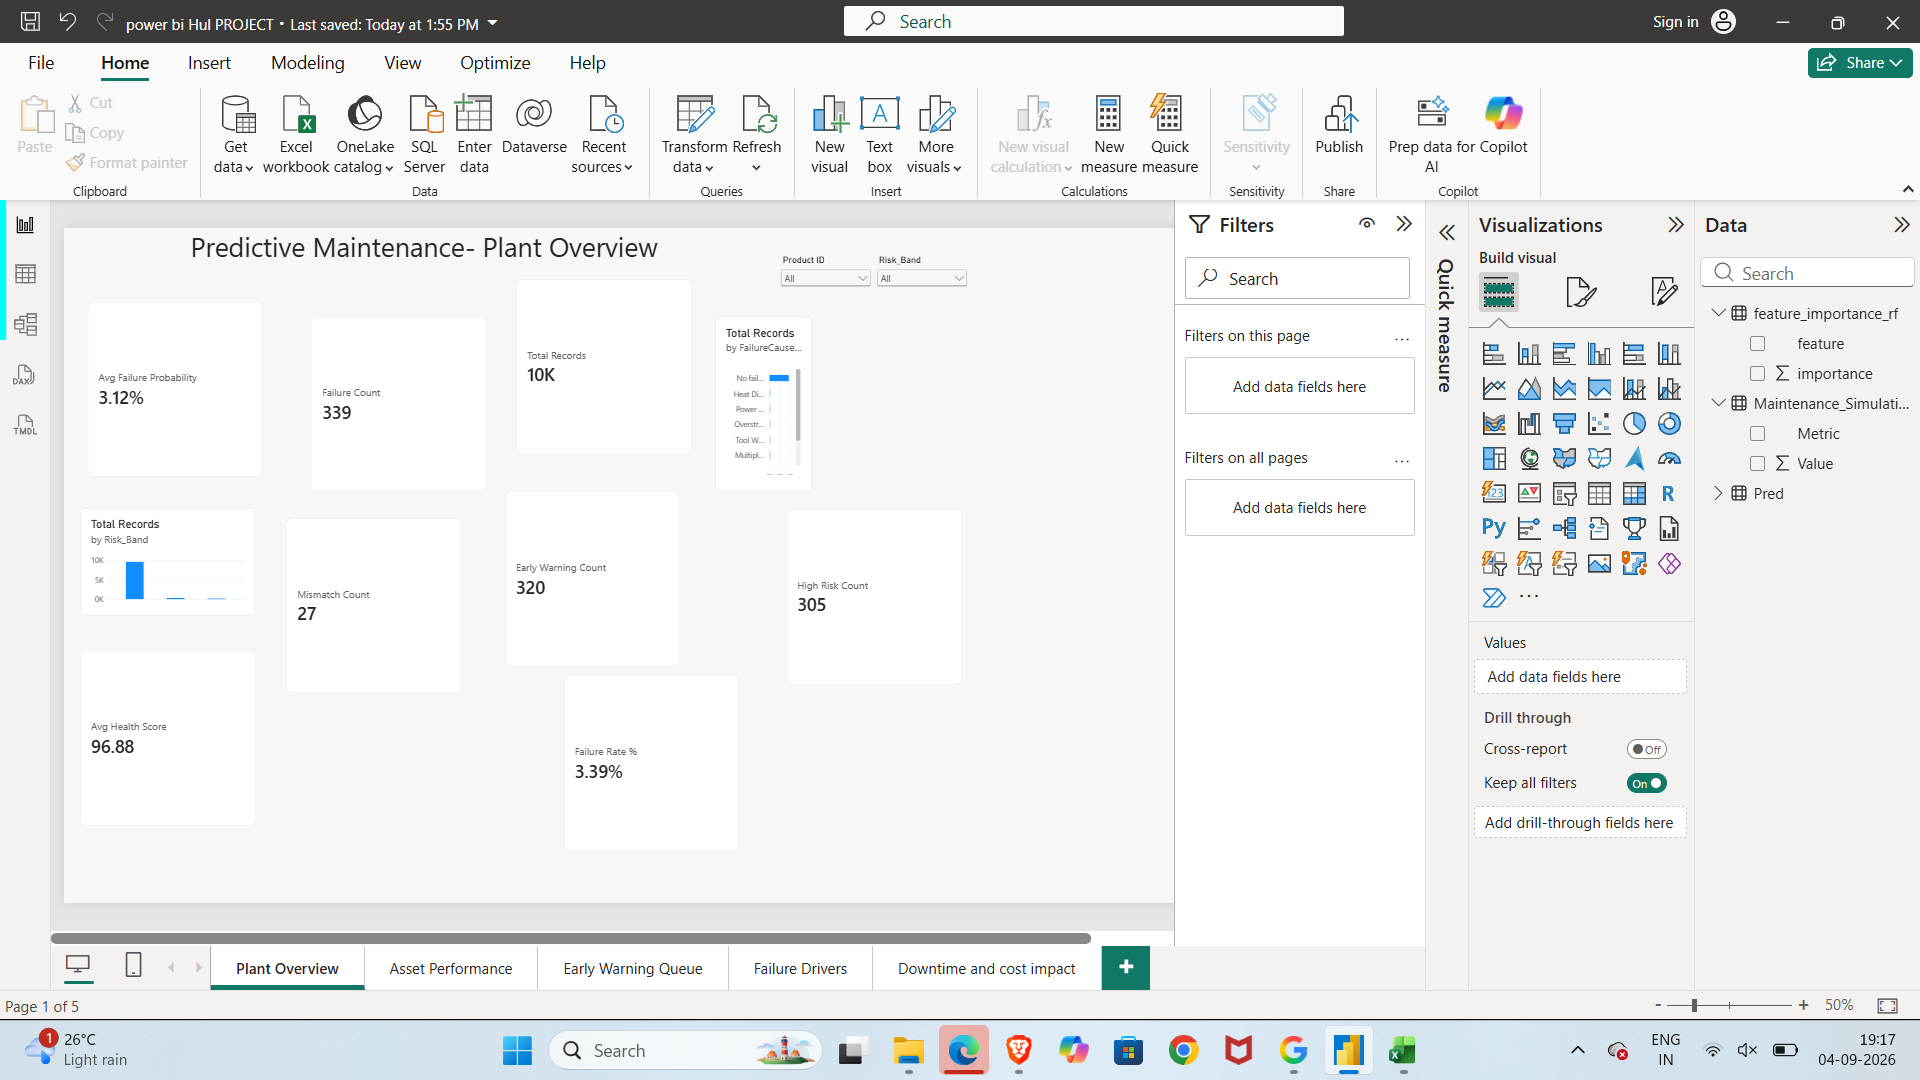

What the dashboard file says about the page in this screenshot:
{"tool":"powerbi","page":{"name":"Plant Overview","canvas":[1920,1080],"ordinal":0},"visuals":[{"type":"textbox","box":[10,0,1132,82],"z":0},{"type":"cardVisual","fields":{"Data":["Pred.Total Records"]},"box":[723.3,81.7,280,280],"z":1000},{"type":"cardVisual","fields":{"Data":["Pred.Avg Failure Probability"]},"box":[38.3,118.3,280,280],"z":2000},{"type":"cardVisual","fields":{"Data":["Pred.Avg Health Score"]},"box":[26.7,676.7,280,280],"z":3000},{"type":"cardVisual","fields":{"Data":["Pred.Failure Rate %"]},"box":[800,716.7,280,280],"z":4000},{"type":"cardVisual","fields":{"Data":["Pred.Failure Count"]},"box":[395,141.7,280,280],"z":5000},{"type":"cardVisual","fields":{"Data":["Pred.High Risk Count"]},"box":[1156,450,280,280],"z":6000},{"type":"cardVisual","fields":{"Data":["Pred.Early Warning Count"]},"box":[705,421.7,280,280],"z":7000},{"type":"cardVisual","fields":{"Data":["Pred.Mismatch Count"]},"box":[355,463.3,280,280],"z":8000},{"type":"clusteredColumnChart","fields":{"Category":["Pred.Risk_Band"],"Y":["Pred.Total Records"]},"box":[26.7,448.3,280,172],"z":9000},{"type":"clusteredBarChart","fields":{"Category":["Pred.FailureCauseLabel"],"Y":["Pred.Total Records"]},"box":[1041.7,141.7,154,280],"z":10000},{"type":"slicer","fields":{"Values":["Pred.Risk_Band"]},"box":[1296.7,41.7,154,280],"z":11000},{"type":"slicer","fields":{"Values":["Pred.Product ID"]},"box":[1142,42,154,280],"z":12000}]}

Visuals, with their boxes on the page's 1920x1080 design canvas (x1, y1, x2, y2). These are canvas units, not pixel positions in the 1920x1080 screenshot, which may show the page scaled, cropped or inside an application window:
textbox: (10,0,1142,82)
cardVisual - Pred.Total Records: (723,82,1003,362)
cardVisual - Pred.Avg Failure Probability: (38,118,318,398)
cardVisual - Pred.Avg Health Score: (27,677,307,957)
cardVisual - Pred.Failure Rate %: (800,717,1080,997)
cardVisual - Pred.Failure Count: (395,142,675,422)
cardVisual - Pred.High Risk Count: (1156,450,1436,730)
cardVisual - Pred.Early Warning Count: (705,422,985,702)
cardVisual - Pred.Mismatch Count: (355,463,635,743)
clusteredColumnChart - Pred.Risk_Band x Pred.Total Records: (27,448,307,620)
clusteredBarChart - Pred.FailureCauseLabel x Pred.Total Records: (1042,142,1196,422)
slicer - Pred.Risk_Band: (1297,42,1451,322)
slicer - Pred.Product ID: (1142,42,1296,322)
